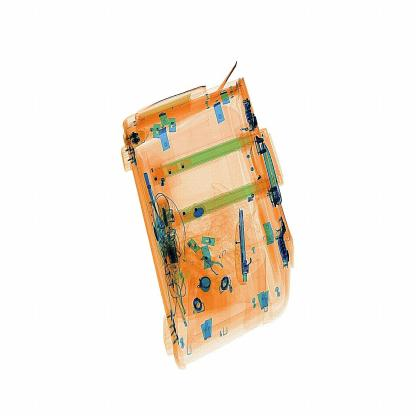pliers: (234, 205, 250, 286)
